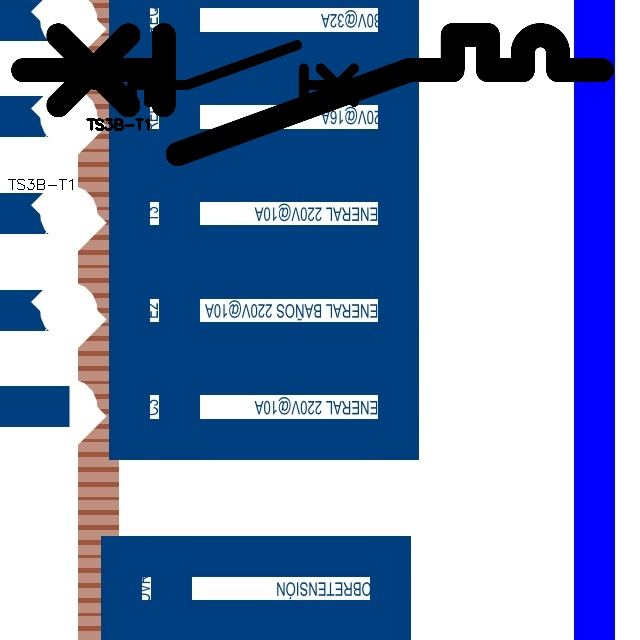interruptor_termomagnetico: (8, 20, 617, 169), (87, 38, 378, 109)
